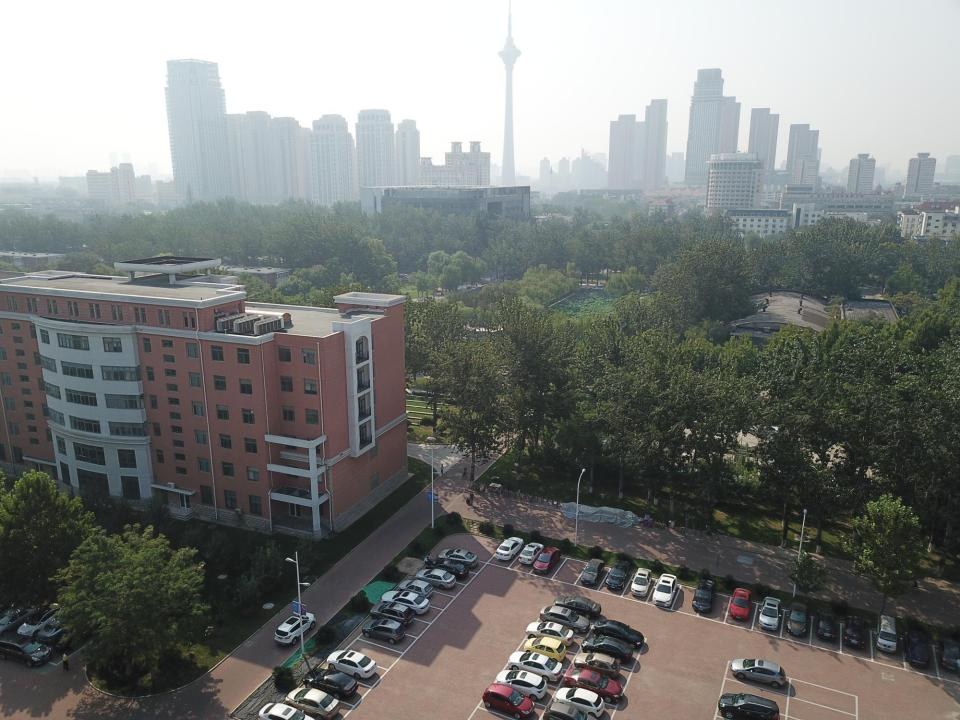car: (52, 612, 105, 651), (564, 668, 624, 702), (482, 683, 535, 719), (302, 668, 359, 700), (285, 687, 340, 720), (16, 602, 66, 638), (507, 651, 563, 683), (718, 692, 781, 720), (36, 610, 89, 643), (0, 634, 52, 667), (495, 669, 548, 701), (730, 658, 786, 688), (554, 687, 605, 719), (592, 620, 644, 650), (326, 650, 377, 680), (539, 605, 590, 634), (581, 636, 633, 664), (274, 612, 316, 646), (380, 590, 430, 616), (525, 621, 575, 647), (574, 652, 620, 680), (0, 605, 38, 638), (552, 595, 602, 620), (362, 618, 406, 644), (524, 636, 566, 663), (257, 702, 317, 720), (902, 630, 930, 668), (370, 602, 414, 626), (543, 702, 599, 720), (415, 568, 456, 590), (436, 548, 478, 569), (425, 558, 469, 578), (652, 573, 677, 607), (786, 601, 810, 636), (758, 596, 782, 631), (532, 546, 561, 574), (843, 615, 866, 648), (692, 579, 715, 612), (605, 560, 630, 590), (938, 637, 960, 671), (397, 579, 434, 599), (729, 588, 751, 620), (580, 558, 605, 585), (496, 537, 524, 561), (816, 610, 837, 641), (518, 542, 545, 565), (630, 568, 652, 596), (740, 422, 766, 437), (762, 426, 786, 439)
van: (876, 615, 897, 654)
